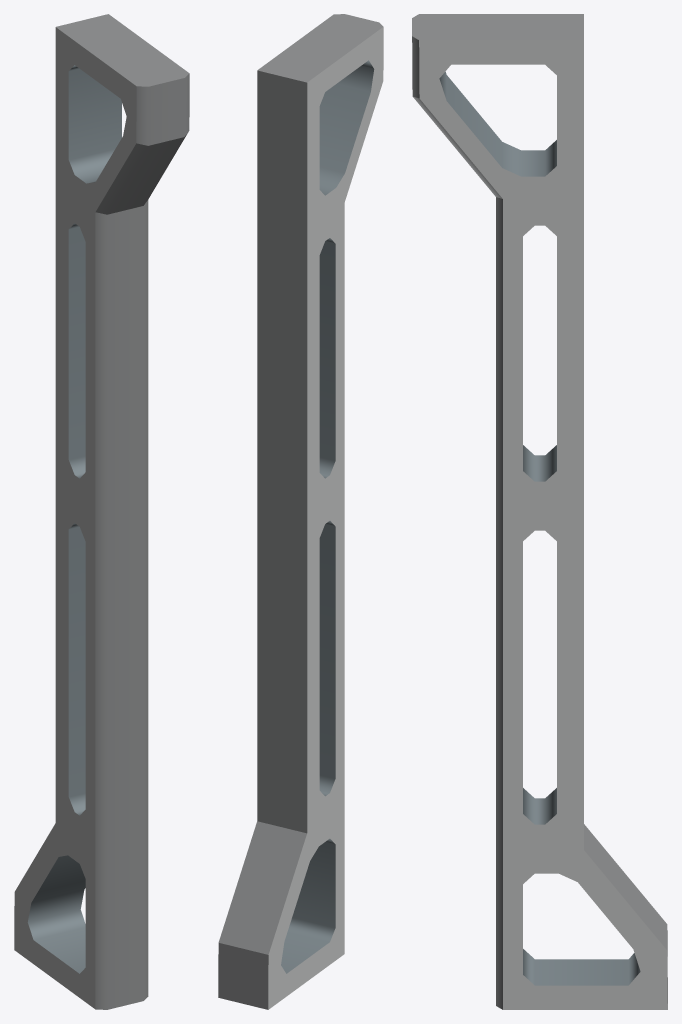
The model's file is Column_002.fbx.
3 views of the same model, side by side, from view 1: azimuth 30°, elevation 25°; view 2: azimuth 150°, elevation 25°; view 3: azimuth 270°, elevation 25° (orthographic). The views are drawn at different scales.
Visible parts, largest first — view 1: Column_002; view 2: Column_002; view 3: Column_002.
Boxes of the visible parts, box(x1,y1,x2,y2) form: Column_002: box(14, 14, 189, 1009); Column_002: box(218, 14, 383, 1009); Column_002: box(412, 14, 667, 1009).
Bounding box in the file's own units: 22.41 × 92.03 × 385.
